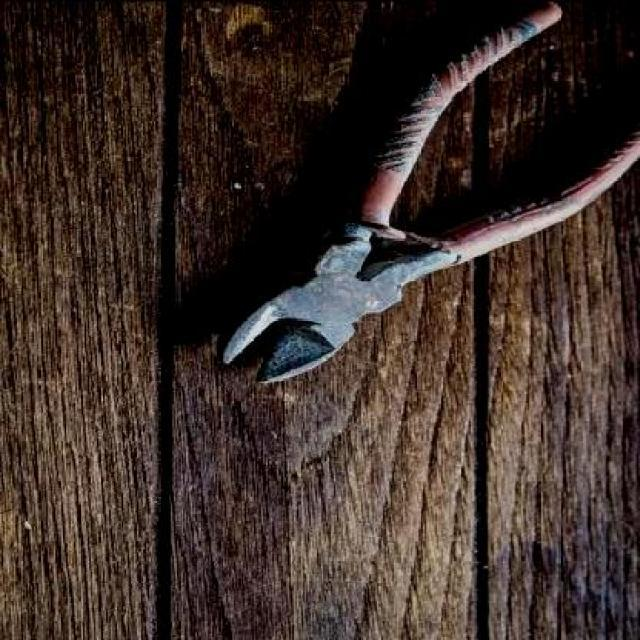pliers: (220, 1, 638, 382)
